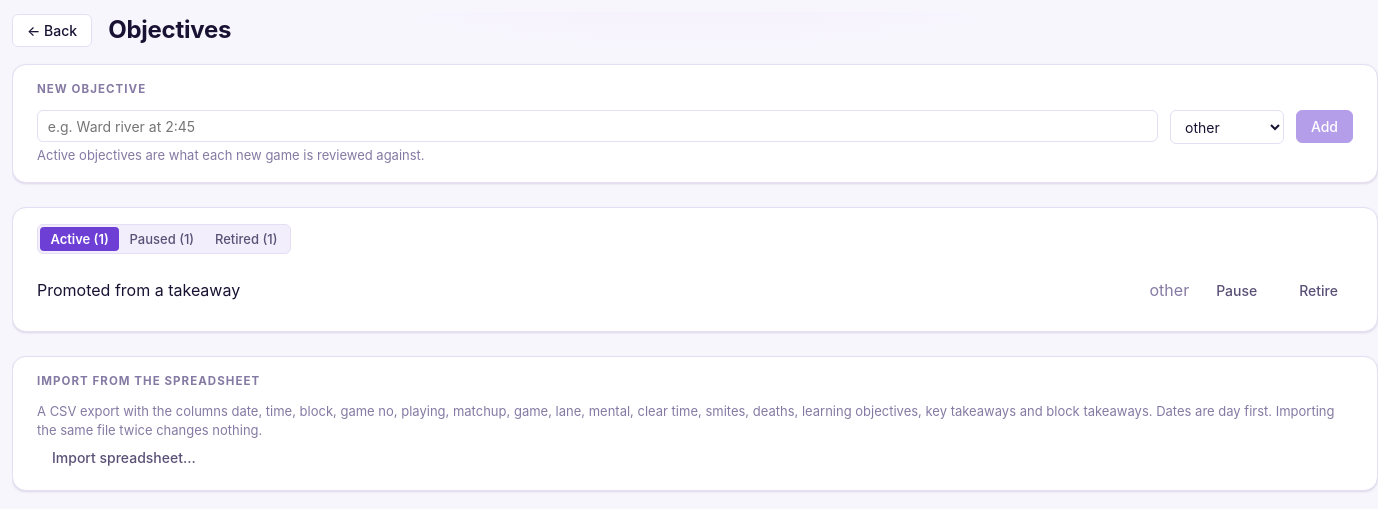
it: the objectives view › retires an objective, which moves it to the retired tab
The image size is (1378, 509).
Click the button "Retire" at point(1319, 290), box [1284,274,1353,306]
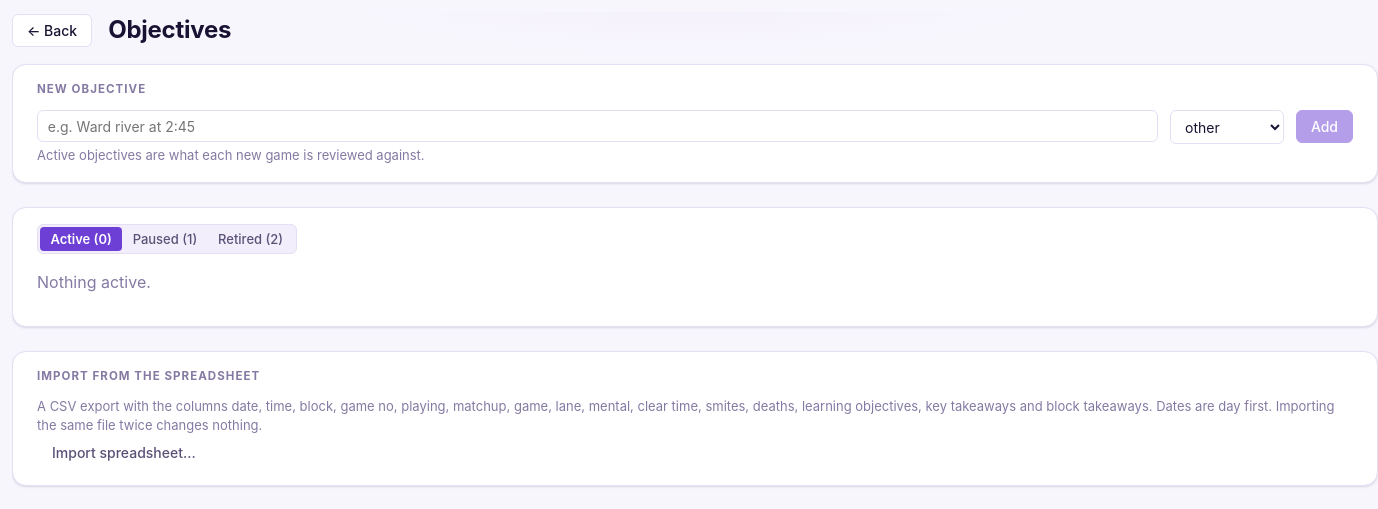
Expected: the radio button labelled "Retired (2)" is shown, [208,227,294,251]
